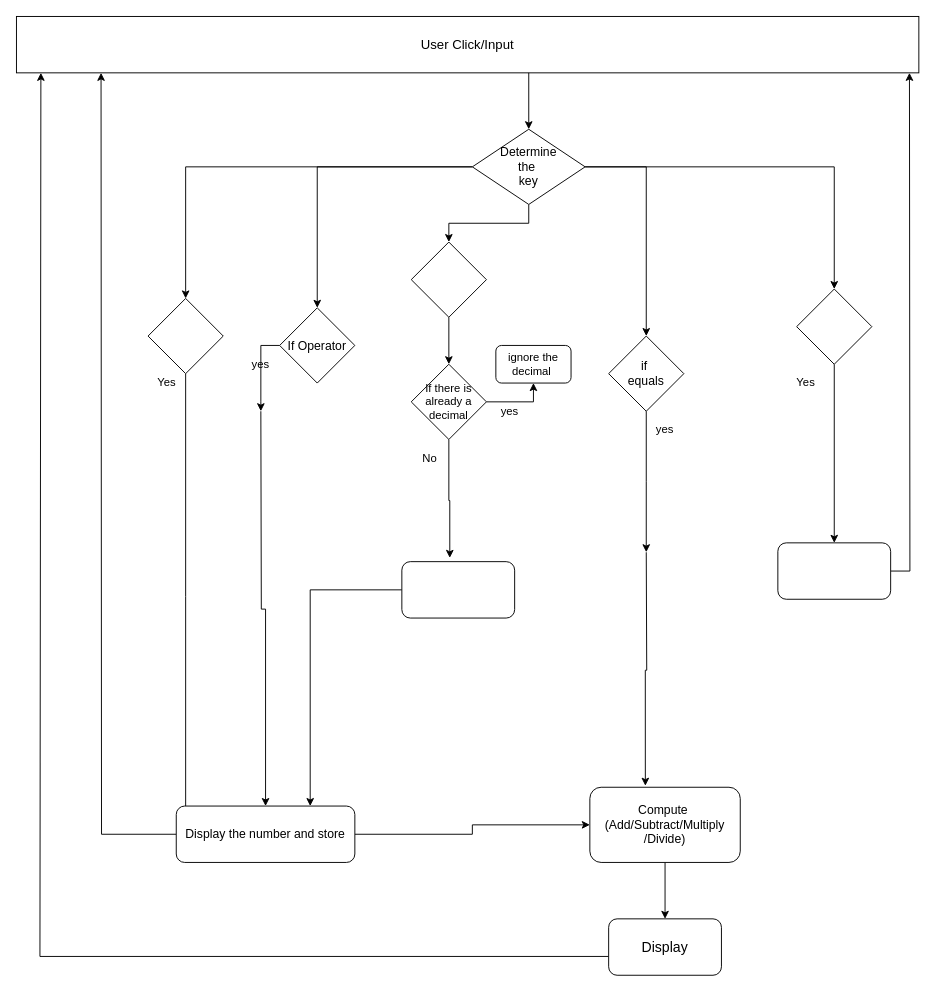
Image size: 935x992. Some labels were removed from this diagram. The centre of each missing label's shape, as x and y in pixels:
"Append to the display" belongs at (458,589).
"Clear Screen" belongs at (834,570).
"if clear key" belongs at (834,326).
"If decimal" belongs at (448,279).
"If number (0-9)" belongs at (185,336).
